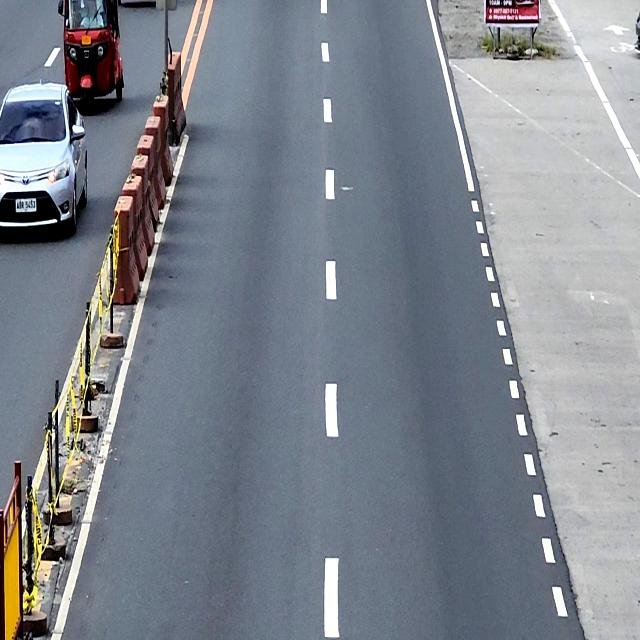Car: (0, 79, 88, 236)
E-bike: (58, 0, 124, 115)
License-Plate: (14, 196, 37, 213)
